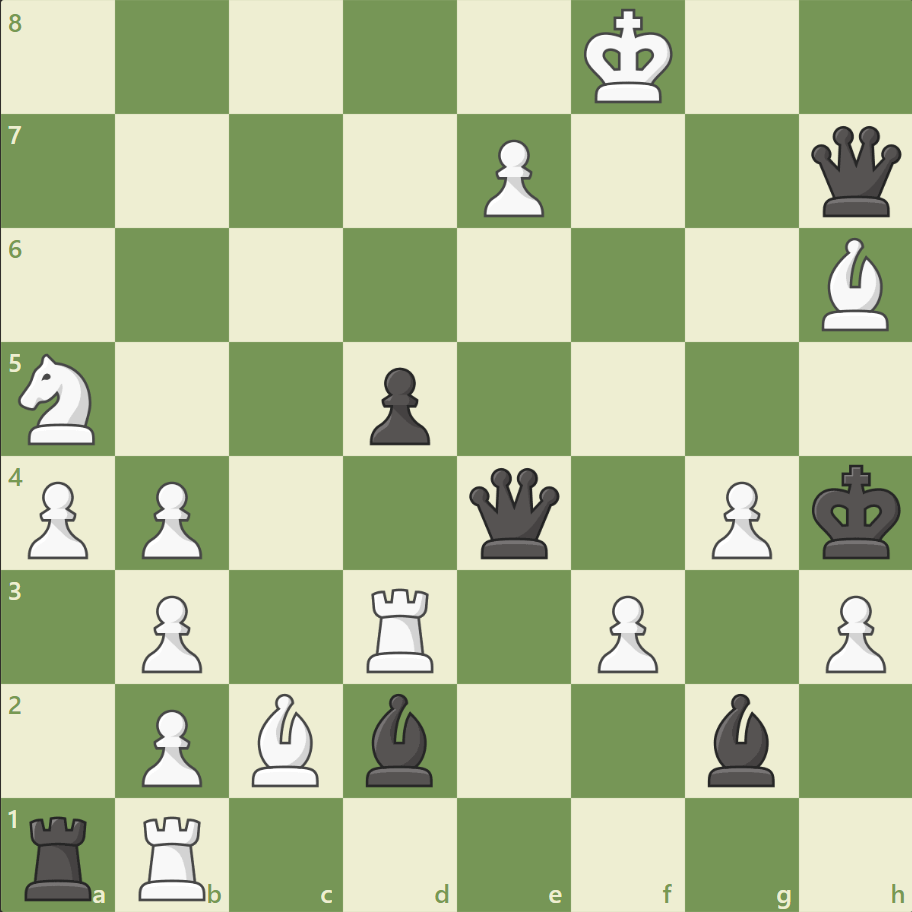B: (812, 233, 896, 336), (244, 687, 328, 790)
K: (579, 4, 679, 112)
N: (11, 348, 108, 450)
P: (474, 132, 549, 223), (20, 473, 95, 564), (133, 473, 208, 564), (701, 473, 776, 564), (133, 586, 208, 677), (133, 700, 208, 791), (588, 586, 662, 677), (815, 586, 889, 677)
R: (133, 806, 215, 904), (360, 579, 442, 676)
b: (358, 687, 442, 790), (698, 687, 782, 790)
k: (806, 458, 906, 566)
p: (361, 359, 435, 450)
q: (805, 122, 904, 222), (464, 463, 563, 562)
r: (19, 806, 102, 904)
